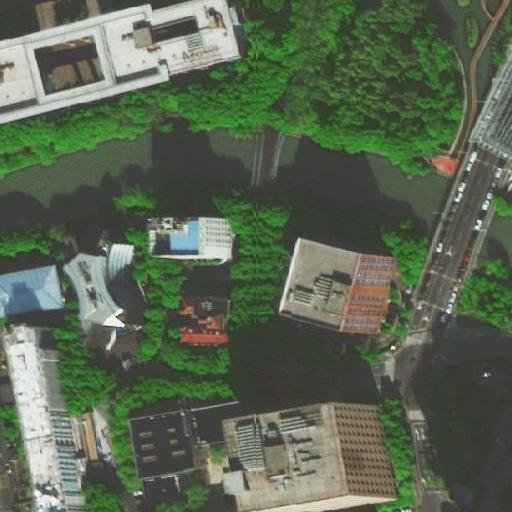building: (228, 404, 399, 511), (0, 18, 180, 106), (5, 324, 86, 501), (311, 243, 397, 342), (138, 403, 205, 481), (2, 263, 68, 321), (151, 218, 232, 263), (78, 251, 130, 319), (181, 296, 237, 345), (190, 401, 239, 443), (421, 144, 461, 179), (142, 478, 186, 509)
